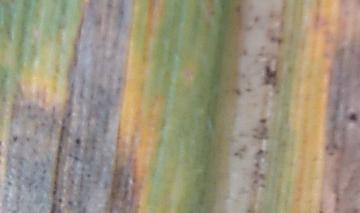tarspot: (349, 113, 360, 122), (11, 135, 19, 143), (75, 136, 82, 145), (57, 197, 64, 204)
